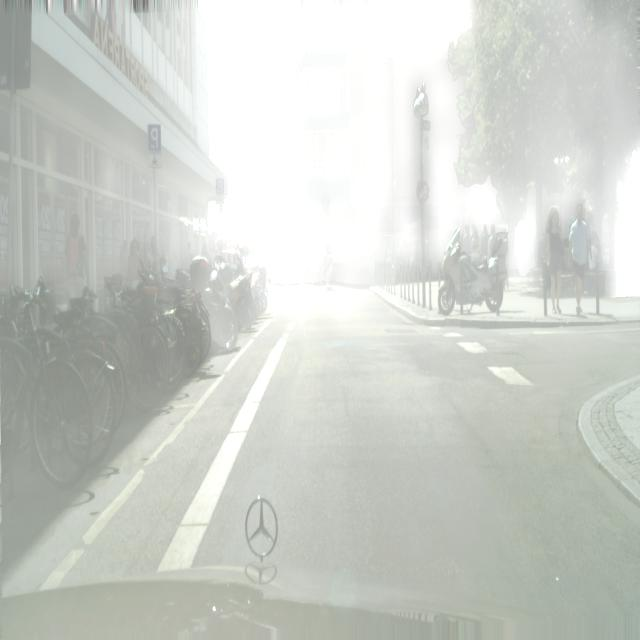bus: (438, 225, 506, 318), (189, 255, 239, 352), (228, 251, 271, 326)
car: (0, 282, 93, 487), (101, 267, 203, 426), (34, 278, 120, 458)
person: (568, 204, 590, 315), (546, 208, 565, 316), (66, 212, 88, 299), (126, 238, 145, 288), (480, 224, 489, 267), (461, 224, 471, 259)
